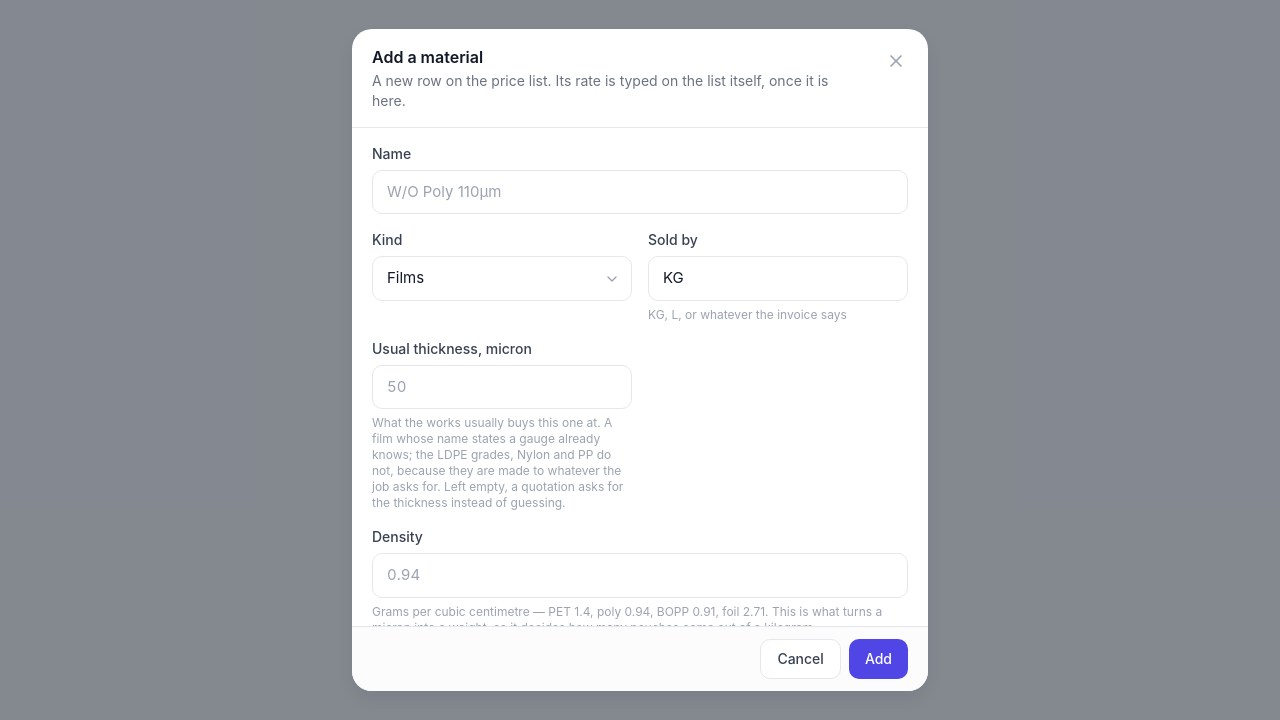
Test case: MaterialModal › follows the kind while a new material is being described
Check: the field labelled "Density" is shown, box top-left (372, 553), bottom-right (908, 598)
Step 1. Select "Ink" in the dropdown labelled "Kind" → (502, 279), box top-left (372, 256), bottom-right (632, 301)
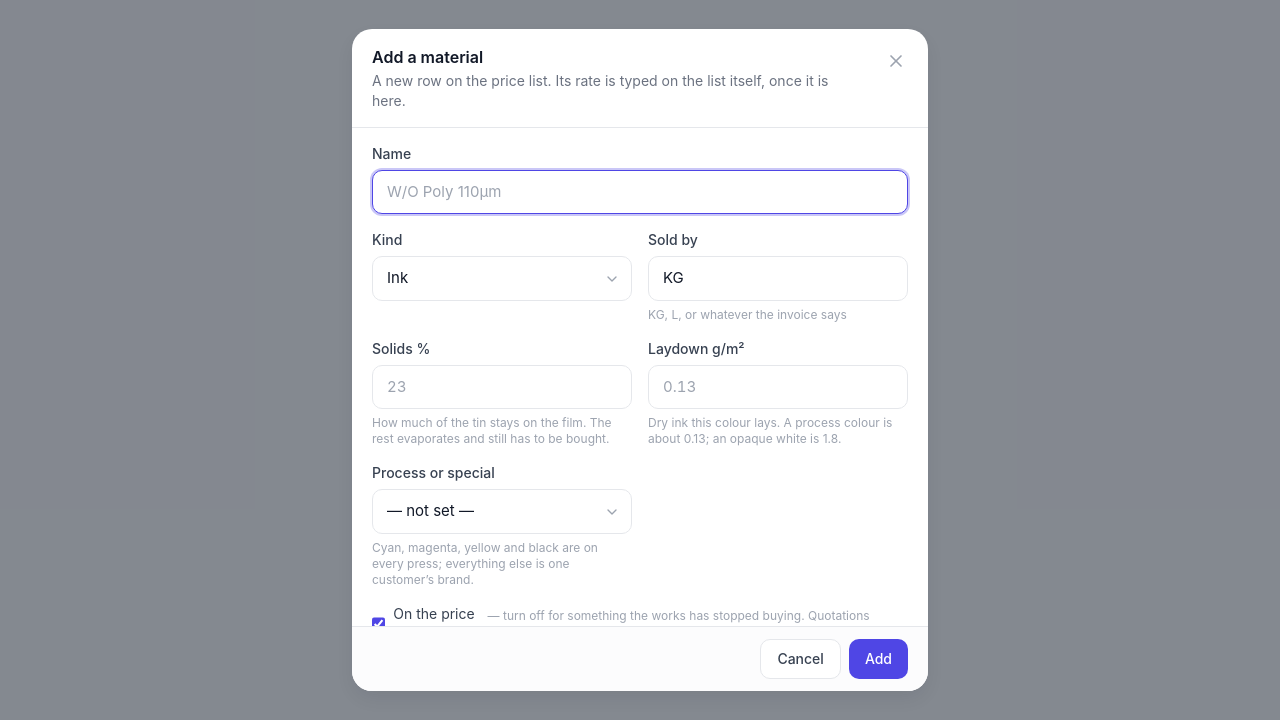
Check: the label labelled "Density" is gone
Check: the field labelled "Laydown g/m²" is shown, box top-left (648, 365), bottom-right (908, 409)
